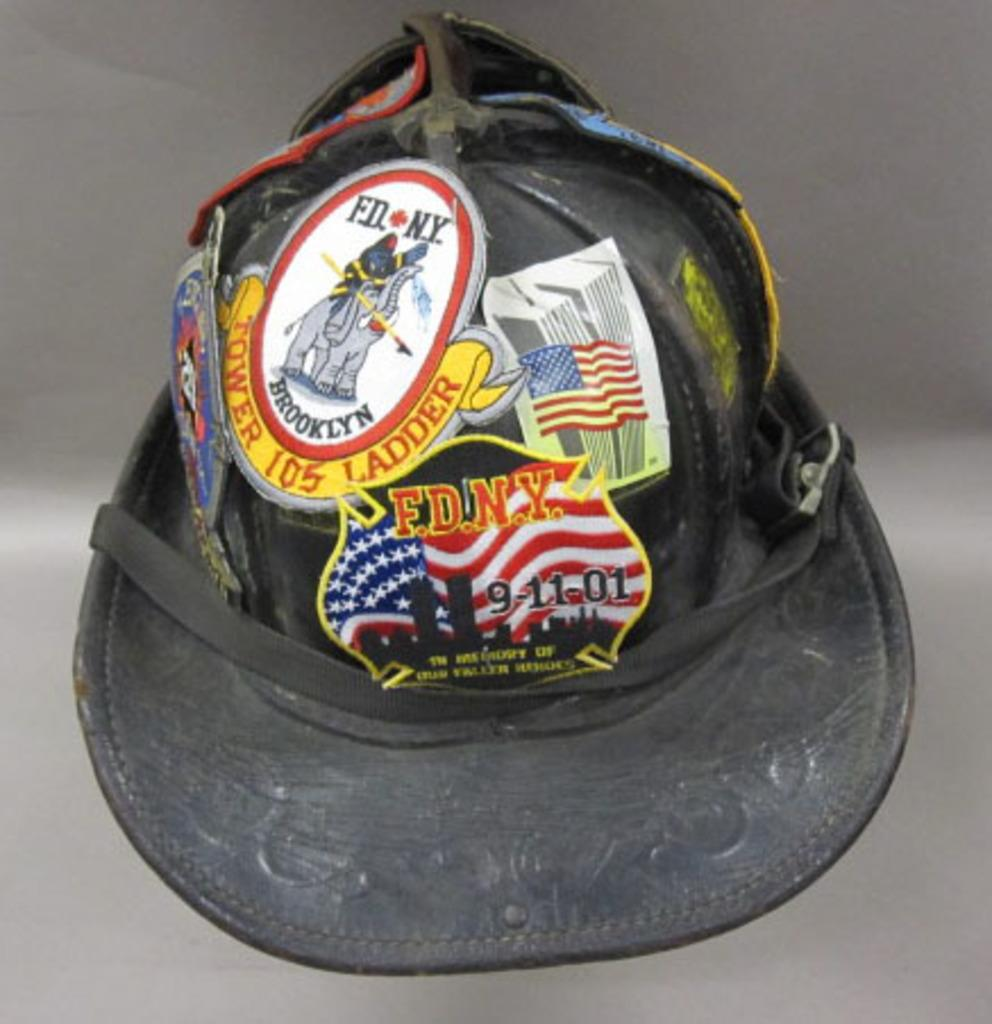Hat: (66, 6, 914, 976)
